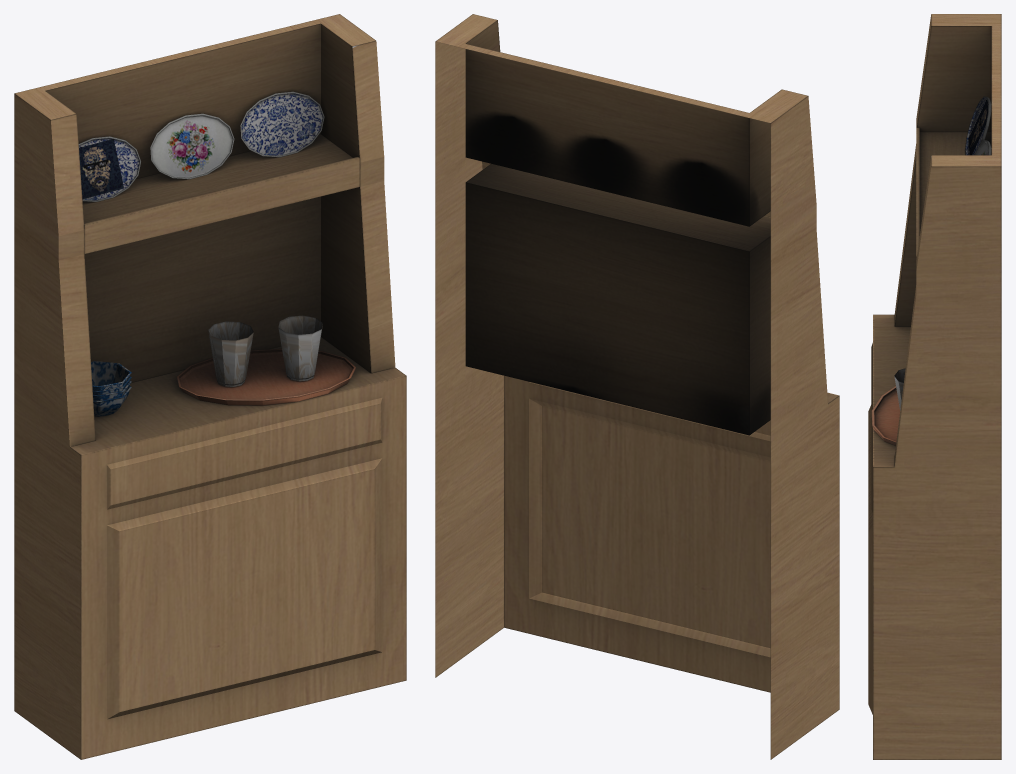
The model's file is crn_cupboard.fbx.
The picture shows the model from 3 angles, left to right: view 1: azimuth 30°, elevation 25°; view 2: azimuth 150°, elevation 25°; view 3: azimuth 270°, elevation 25°; orthographic projection. The views are drawn at different scales.
Parts seen in each view (by area): view 1: cupboard; view 2: cupboard; view 3: cupboard.
Part boxes in pixels (x1=…): cupboard: x1=14, y1=14, x2=406, y2=759; cupboard: x1=435, y1=14, x2=839, y2=759; cupboard: x1=868, y1=14, x2=1001, y2=759.
Size of the model in its own units: 2.81 by 5.1 by 1.04.
